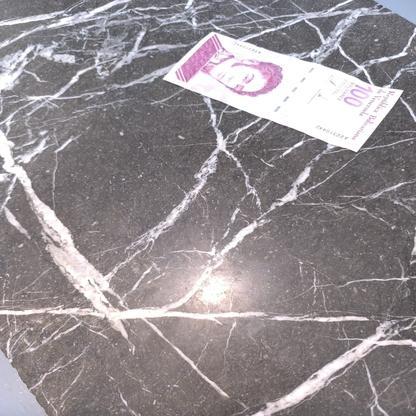vef_front: (162, 30, 404, 152)
